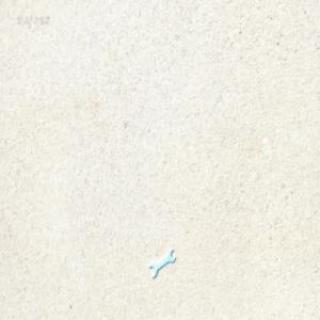Wrenchtrack_idkeyframe: (148, 248, 174, 278)
